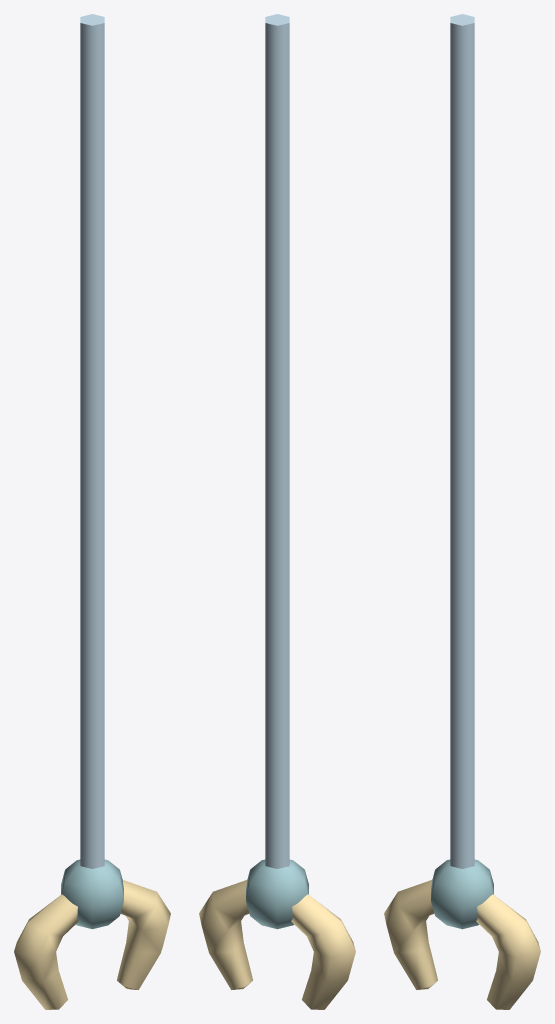
The model's file is obj_clawHand.fbx.
3 views of the same model, side by side, from view 1: azimuth 30°, elevation 25°; view 2: azimuth 150°, elevation 25°; view 3: azimuth 330°, elevation 25° (orthographic).
Visible parts, largest first — view 1: clawHand_body, clawHand_L, clawHand_R; view 2: clawHand_body, clawHand_L, clawHand_R; view 3: clawHand_body, clawHand_R, clawHand_L.
Part boxes in pixels (<box>): clawHand_body: <box>61,14,123,929</box>; clawHand_L: <box>14,894,78,1009</box>; clawHand_R: <box>117,880,170,989</box>; clawHand_body: <box>246,14,308,929</box>; clawHand_L: <box>291,894,355,1009</box>; clawHand_R: <box>199,880,252,989</box>; clawHand_body: <box>431,14,493,929</box>; clawHand_R: <box>476,894,540,1009</box>; clawHand_L: <box>384,880,437,989</box>.
Size of the model in its own units: 72.87 by 434 by 25.44.
